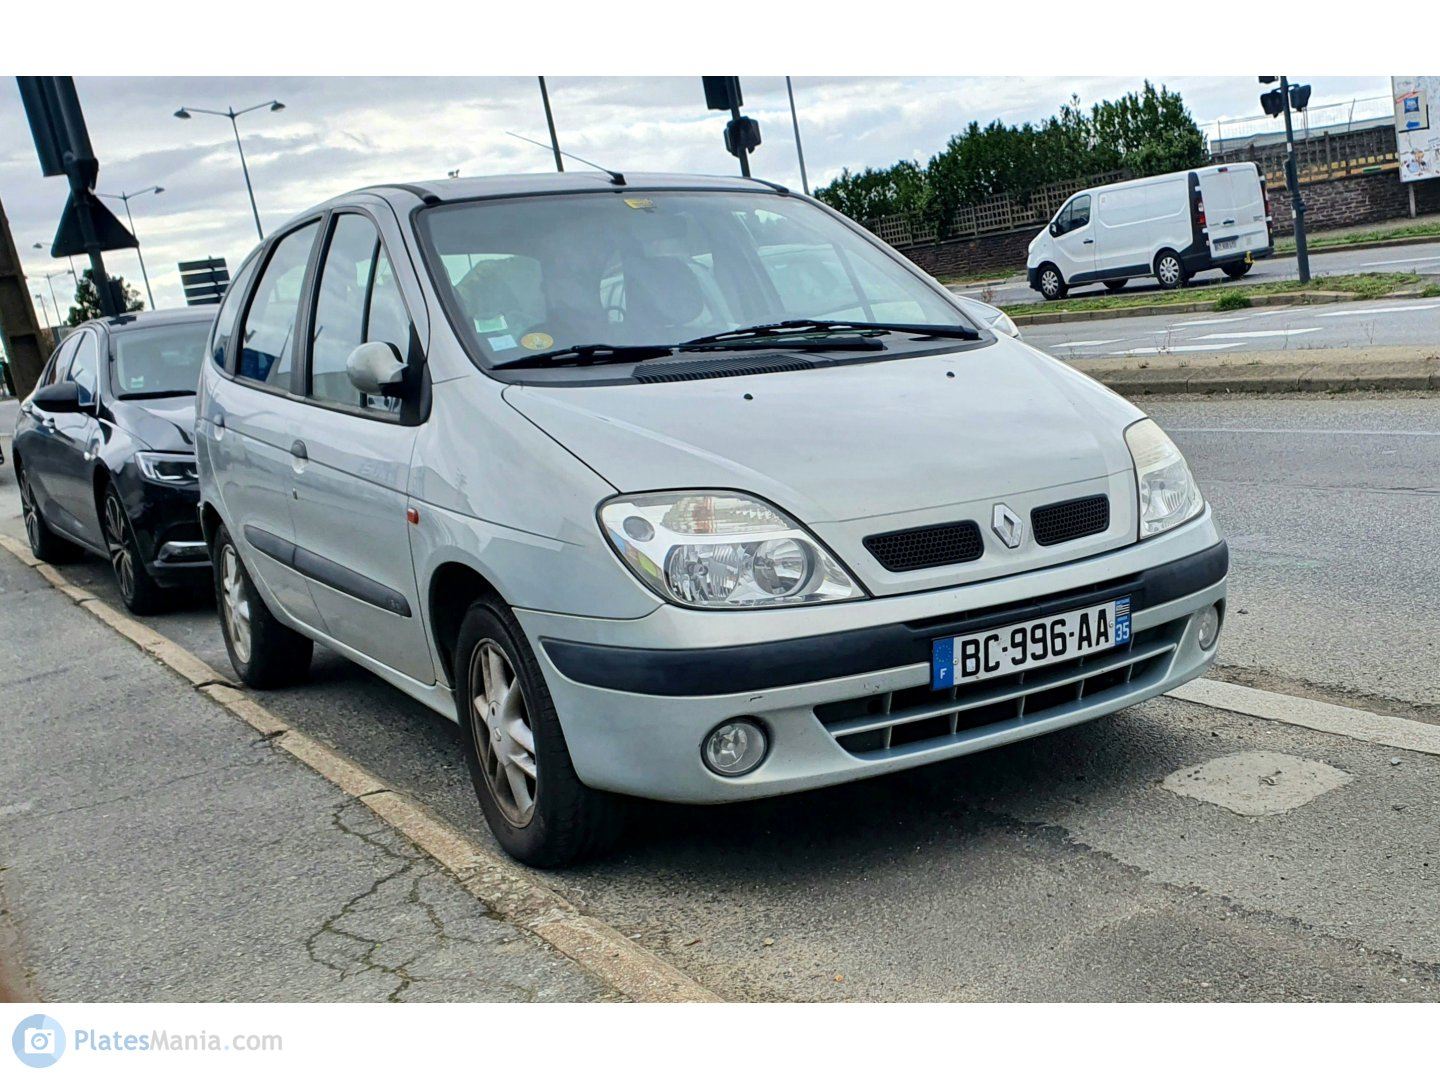licence plate: (924, 589, 1138, 692)
